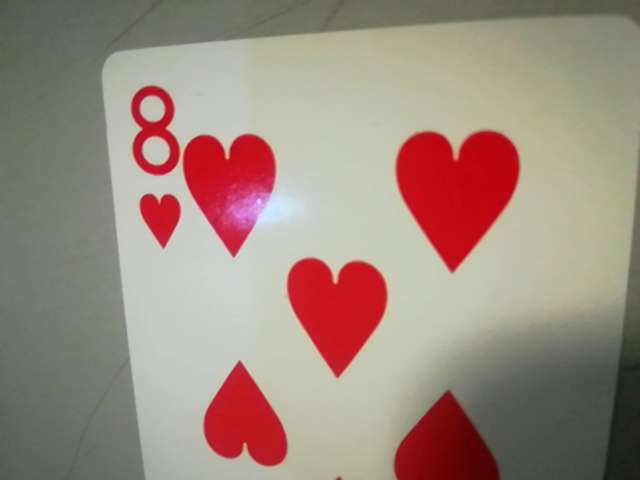hx 8: (115, 74, 187, 254)
